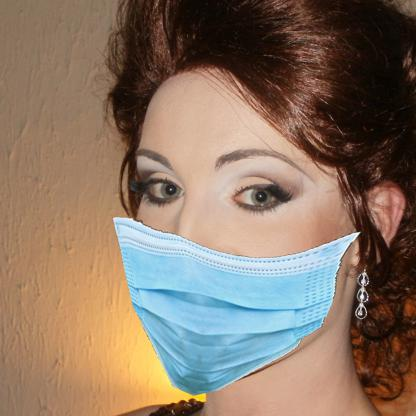mask: (111, 214, 361, 395)
